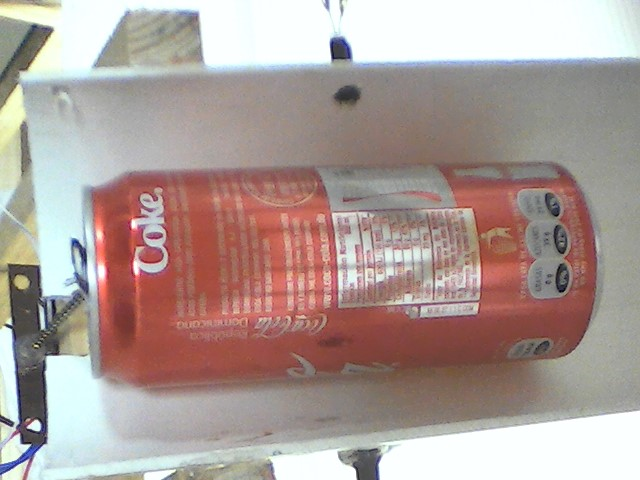lata: (70, 155, 610, 397)
